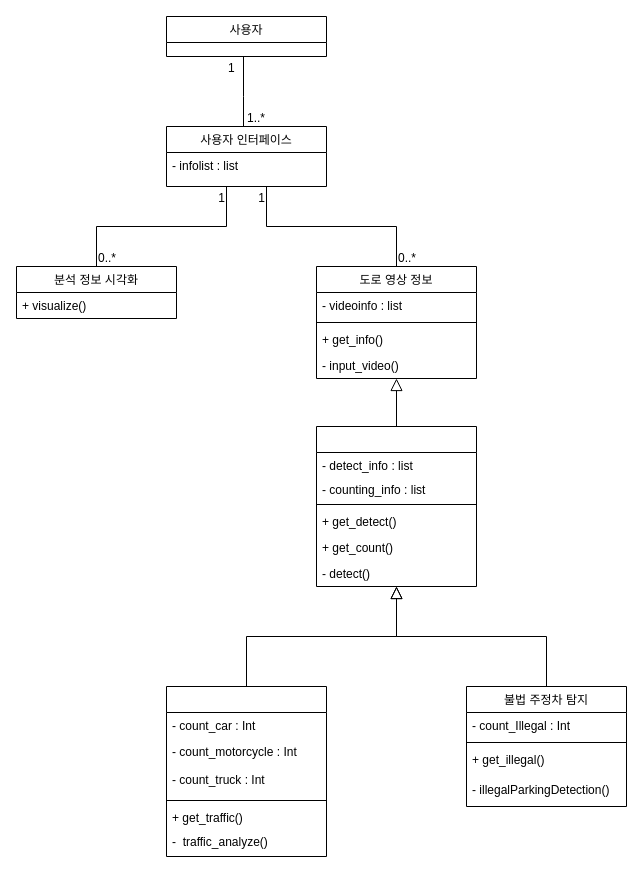
This 643x873 diagram has some shape labels left out. The shapes that lost their labels are listed below. From the top down, each one's box as (x1, y1, x2, y2) in pixels, then its label:
(316, 426, 476, 586): 객체 탐지
(166, 686, 326, 856): 교통량 분석
